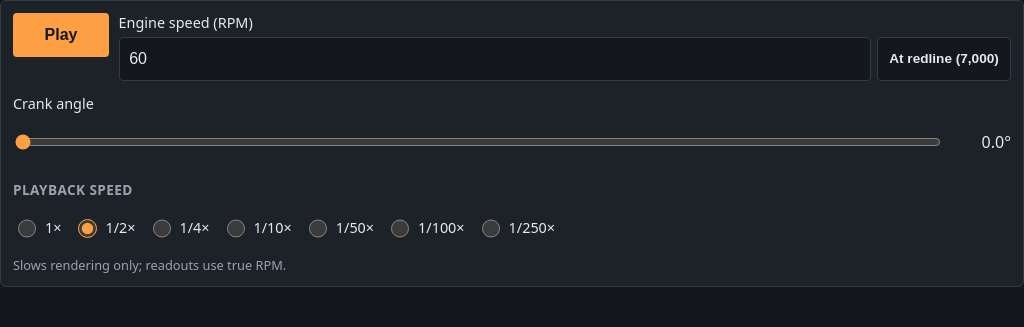
it: AnimationControls › rejects RPM above the practical maximum without updating the store
Replace the text in the number field labelled "Engine speed (RPM)" with "15000" at (495, 59), box [119, 37, 871, 81]
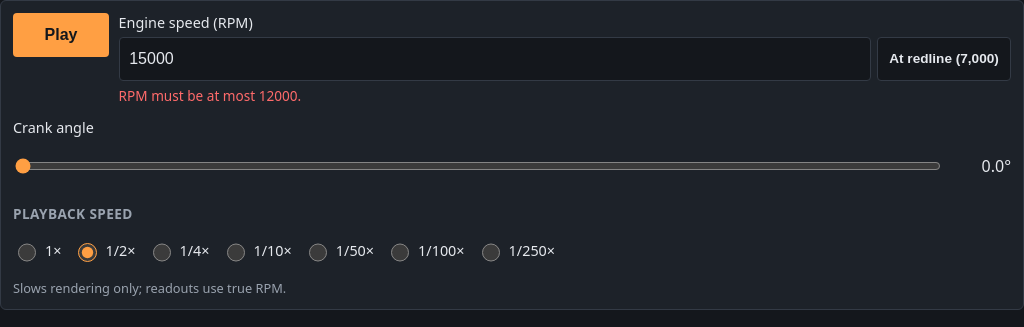
Result: the message "RPM must be at most 12000." is shown at [119, 86, 301, 105]
